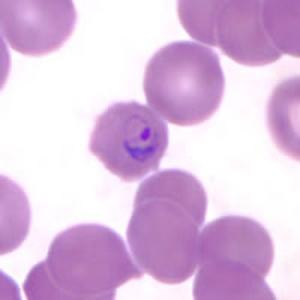Infected: (88, 101, 167, 183)
Uninfected: (48, 223, 144, 296), (146, 44, 222, 127), (125, 198, 196, 285), (196, 215, 271, 290), (212, 0, 288, 62), (132, 169, 203, 235), (0, 0, 78, 59), (192, 260, 273, 300)
